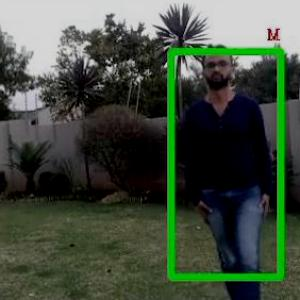follow: (188, 33, 274, 299)
